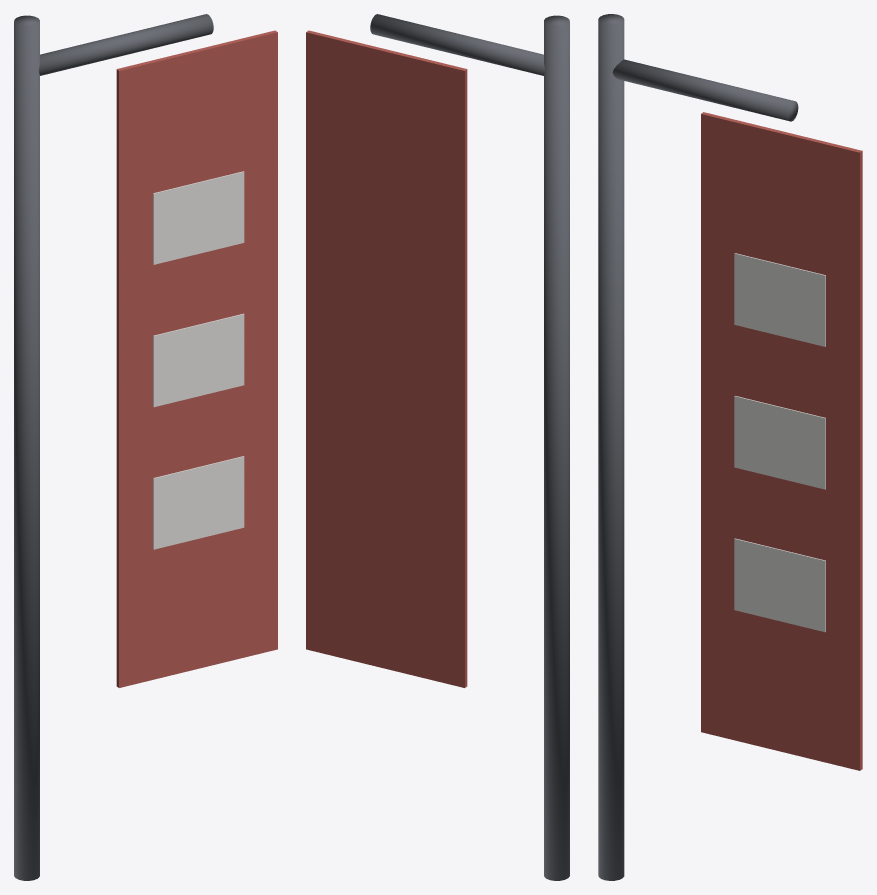
The model's file is prop_tatemaku_red.glb.
The picture shows the model from 3 angles, left to right: view 1: azimuth 30°, elevation 25°; view 2: azimuth 150°, elevation 25°; view 3: azimuth 330°, elevation 25°; orthographic projection.
Visible parts, largest first — view 1: tatemaku_red; view 2: tatemaku_red; view 3: tatemaku_red.
Part boxes in pixels (x1,y1,x2,y2): tatemaku_red: (14,14,277,880); tatemaku_red: (306,14,569,880); tatemaku_red: (598,14,862,880).
Size of the model in its own units: 1.15 by 3.6 by 0.1.
